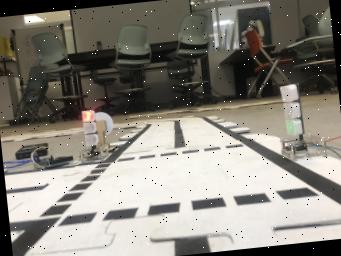street: (4, 117, 341, 256)
traffic_light: (279, 84, 327, 160), (79, 110, 108, 163)
